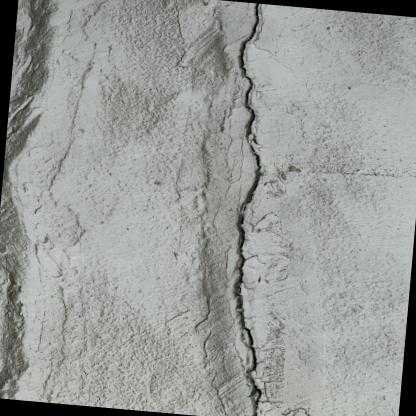crack: (229, 3, 270, 416)
